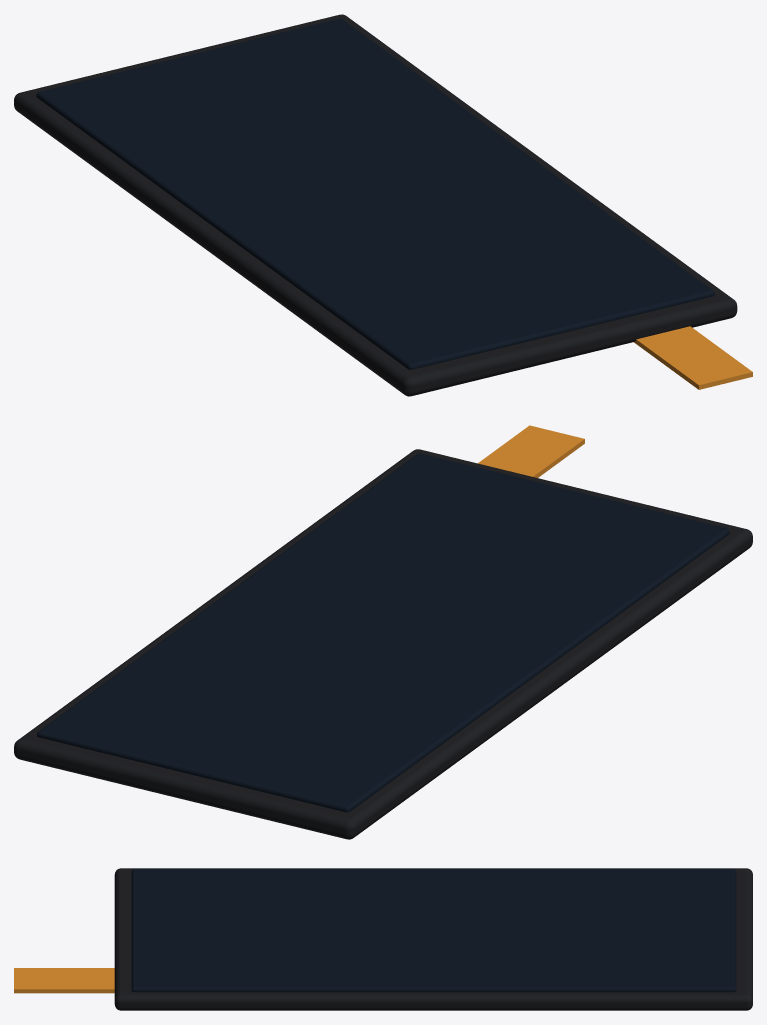
Rendered from part-screen.glb.
3 views of the same model, one above another, from view 1: azimuth 30°, elevation 25°; view 2: azimuth 150°, elevation 25°; view 3: azimuth 270°, elevation 25° (orthographic). The views are drawn at different scales.
Visible parts, largest first — view 1: screenGlass, blackPlastic, flexCable; view 2: screenGlass, blackPlastic, flexCable; view 3: screenGlass, blackPlastic, flexCable.
Boxes of the visible parts, x1,y1,x2,y2 form: screenGlass: (36,18,714,369); blackPlastic: (14,14,737,396); flexCable: (634,326,752,389); screenGlass: (37,453,729,812); blackPlastic: (14,449,752,839); flexCable: (478,425,584,477); screenGlass: (131,868,736,992); blackPlastic: (114,868,752,1010); flexCable: (14,968,114,993).
Size of the model in its own units: 0.074 by 0.005 by 0.176.
